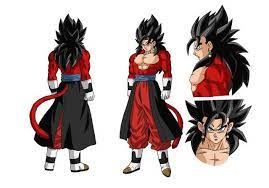Vegito: (183, 10, 246, 66), (194, 98, 237, 145), (134, 16, 163, 58)
